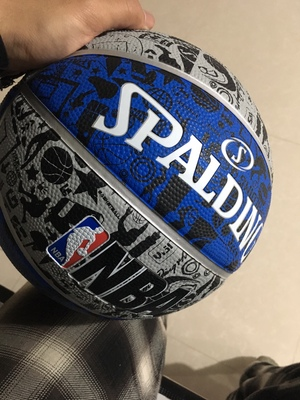ball: (1, 28, 275, 323)
